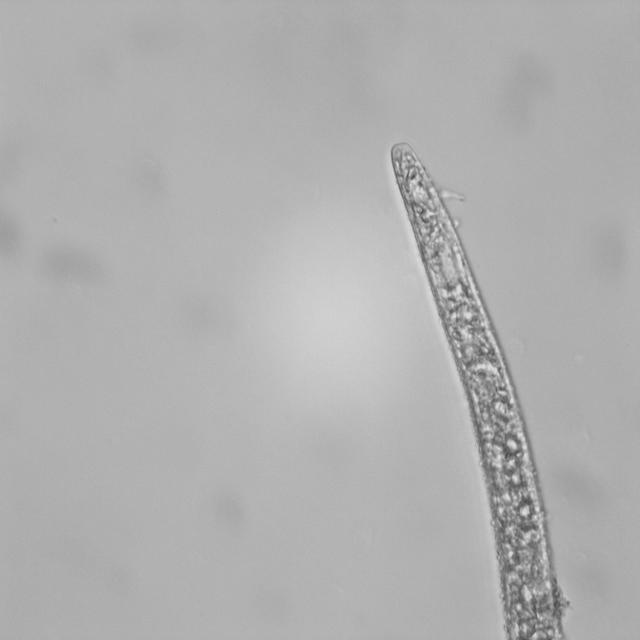Pratylenchus: (380, 131, 593, 640)
